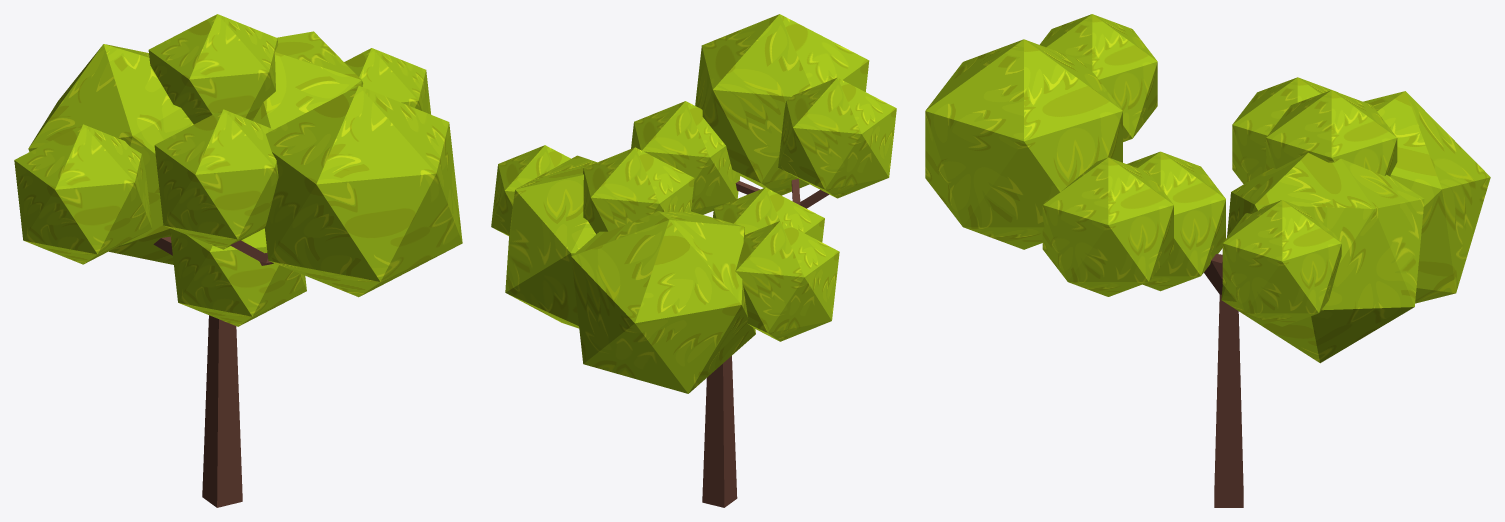
File: Tree_final.glb
The picture shows the model from 3 angles, left to right: view 1: azimuth 30°, elevation 25°; view 2: azimuth 150°, elevation 25°; view 3: azimuth 270°, elevation 25°; orthographic projection. The views are drawn at different scales.
Parts seen in each view (by area): view 1: Icosphere.003, Icosphere.007, Icosphere.002, Icosphere, Icosphere.001, Icosphere.008, Cube, Icosphere.005, Icosphere.006; view 2: Icosphere, Icosphere.003, Icosphere.002, Icosphere.005, Icosphere.007, Icosphere.001, Icosphere.004, Cube, Icosphere.008, Icosphere.006; view 3: Icosphere.003, Icosphere.005, Icosphere.004, Icosphere, Icosphere.006, Icosphere.001, Icosphere.002, Icosphere.008, Cube, Icosphere.007.
Boxes of the visible parts, bbox=[...] form: Icosphere.003: bbox=[264, 85, 462, 297]; Icosphere.007: bbox=[14, 124, 151, 264]; Icosphere.002: bbox=[154, 109, 278, 249]; Icosphere: bbox=[28, 44, 193, 264]; Icosphere.001: bbox=[148, 14, 278, 124]; Icosphere.008: bbox=[170, 228, 306, 326]; Cube: bbox=[153, 236, 273, 507]; Icosphere.005: bbox=[252, 31, 362, 129]; Icosphere.006: bbox=[344, 48, 430, 114]; Icosphere: bbox=[571, 211, 755, 393]; Icosphere.003: bbox=[695, 14, 869, 195]; Icosphere.002: bbox=[778, 77, 896, 198]; Icosphere.005: bbox=[505, 155, 596, 328]; Icosphere.007: bbox=[735, 221, 839, 341]; Icosphere.001: bbox=[583, 147, 694, 234]; Icosphere.004: bbox=[631, 101, 740, 214]; Cube: bbox=[702, 178, 829, 507]; Icosphere.008: bbox=[713, 187, 824, 242]; Icosphere.006: bbox=[491, 145, 570, 235]; Icosphere.003: bbox=[925, 39, 1122, 249]; Icosphere.005: bbox=[1221, 152, 1424, 363]; Icosphere.004: bbox=[1042, 157, 1173, 296]; Icosphere: bbox=[1363, 91, 1490, 303]; Icosphere.006: bbox=[1222, 200, 1341, 326]; Icosphere.001: bbox=[1266, 90, 1397, 176]; Icosphere.002: bbox=[1039, 14, 1157, 141]; Icosphere.008: bbox=[1127, 151, 1225, 291]; Cube: bbox=[1204, 254, 1243, 507]; Icosphere.007: bbox=[1232, 77, 1337, 183].
Bounding box in the file's own units: 13.12 × 15.25 × 16.34.
10 materials, 9 textured.
